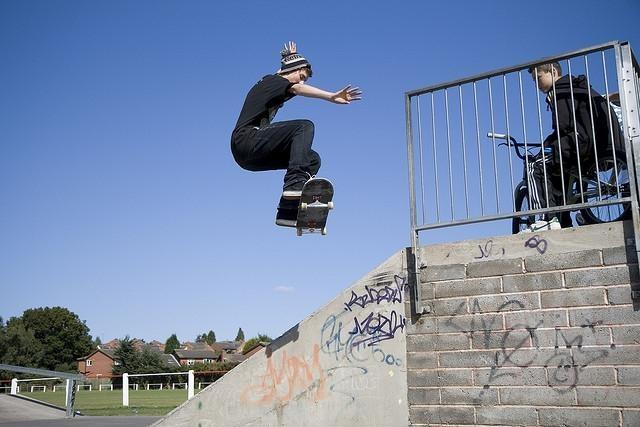bicycle: (486, 133, 630, 231)
